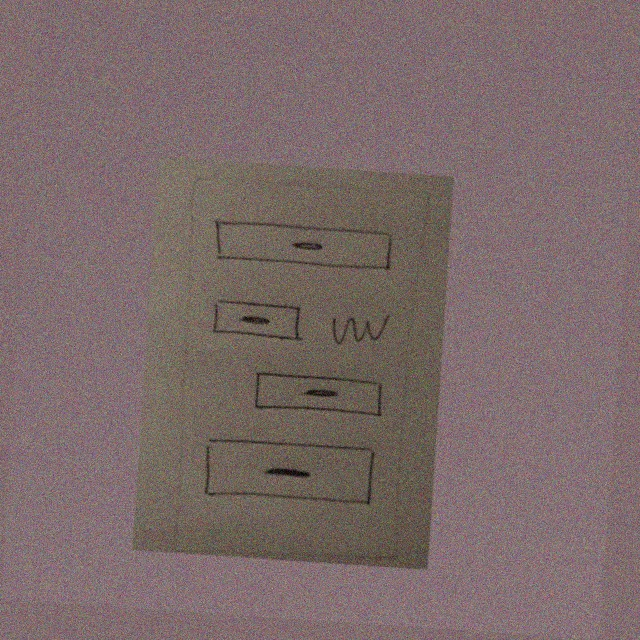button: (198, 433, 380, 515), (208, 212, 396, 277), (251, 366, 389, 425), (205, 293, 311, 349)
text: (326, 308, 392, 350)
